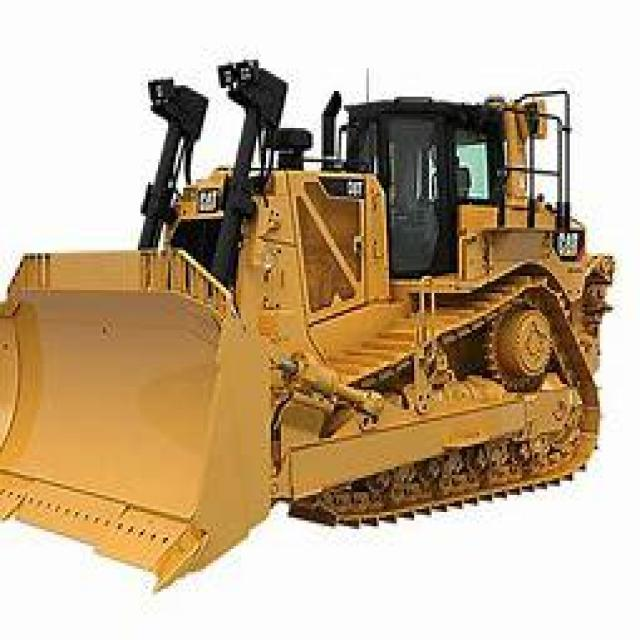Bulldozer: (5, 46, 615, 594)
